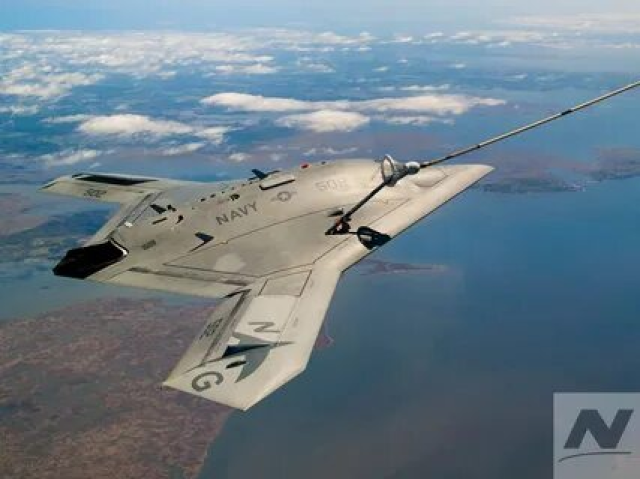military drone: (35, 157, 496, 411)
